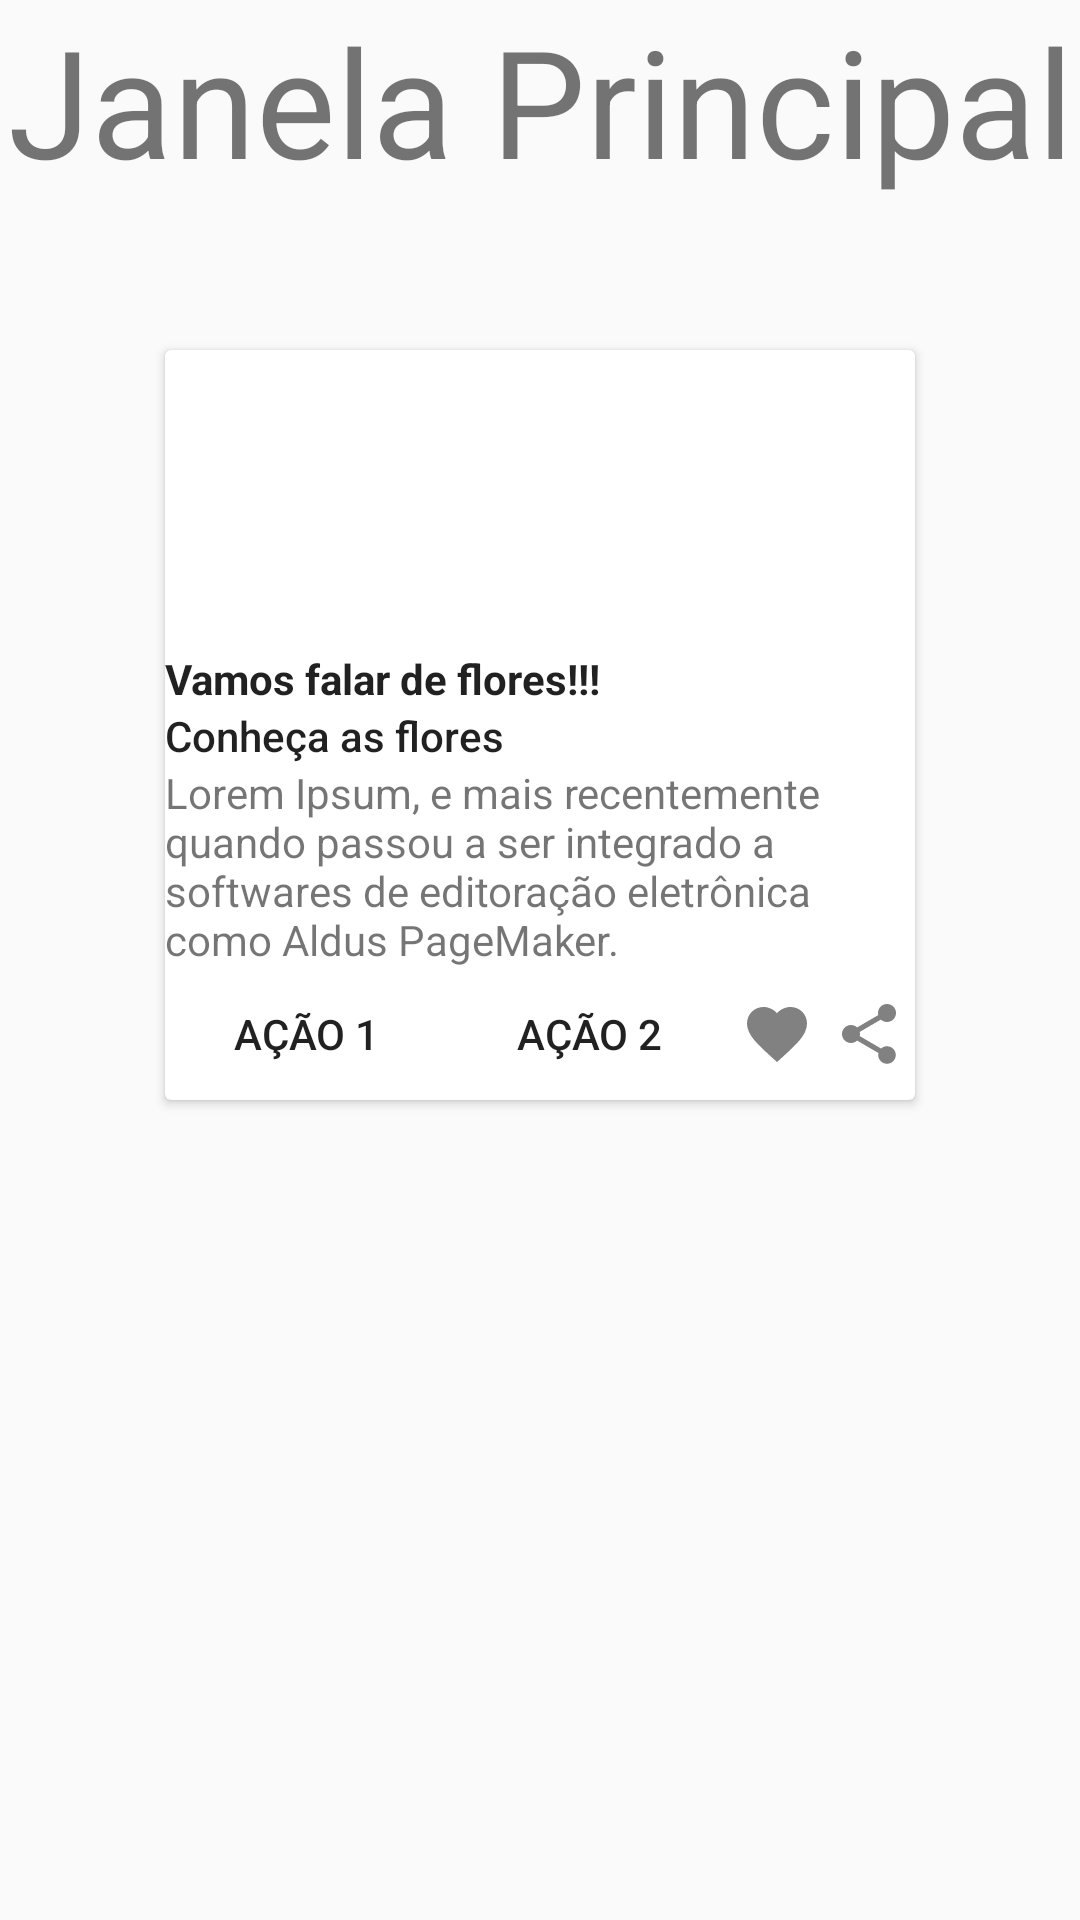

Point at icon controls on the screen. Image size 1080px x 1920px, points as point (x, y).
favorite: point (777, 1034)
share: point (869, 1034)
